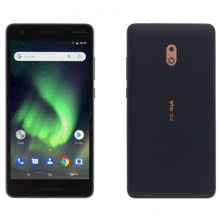nokia: (124, 20, 216, 200)
